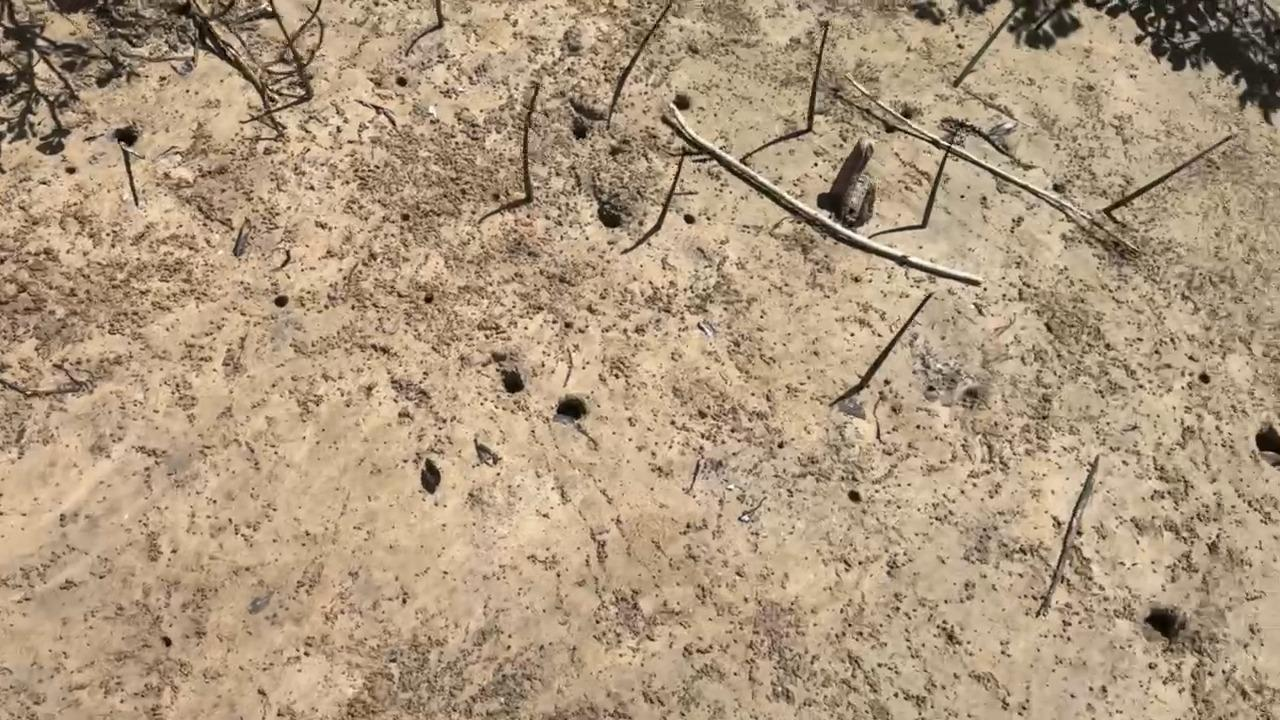Tree: (1102, 135, 1238, 214), (859, 290, 935, 391), (610, 5, 673, 109), (951, 0, 1020, 89), (267, 0, 314, 101), (921, 133, 951, 230), (806, 25, 829, 134), (654, 156, 684, 229), (521, 83, 538, 204), (435, 0, 444, 29)
